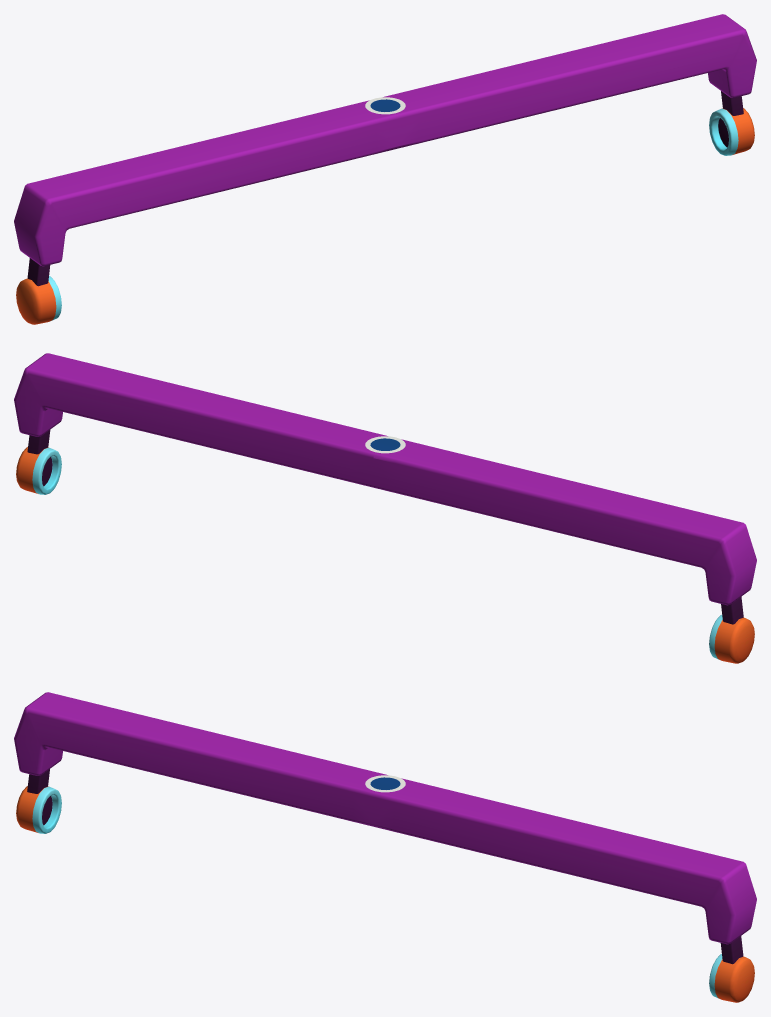
3 views of the same model, one above another, from view 1: azimuth 30°, elevation 25°; view 2: azimuth 150°, elevation 25°; view 3: azimuth 330°, elevation 25° (orthographic).
Visible parts, largest first — view 1: shape2_10, top_cycle; view 2: shape2_10, top_cycle; view 3: shape2_10, top_cycle.
Part boxes in pixels (x1,y1,x2,y2): shape2_10: (14,14,756,324); top_cycle: (365,97,405,114); shape2_10: (14,353,756,663); top_cycle: (365,436,405,453); shape2_10: (14,692,756,1002); top_cycle: (365,775,405,792).
Size of the model in its own units: 86.93 by 15.06 by 5.
